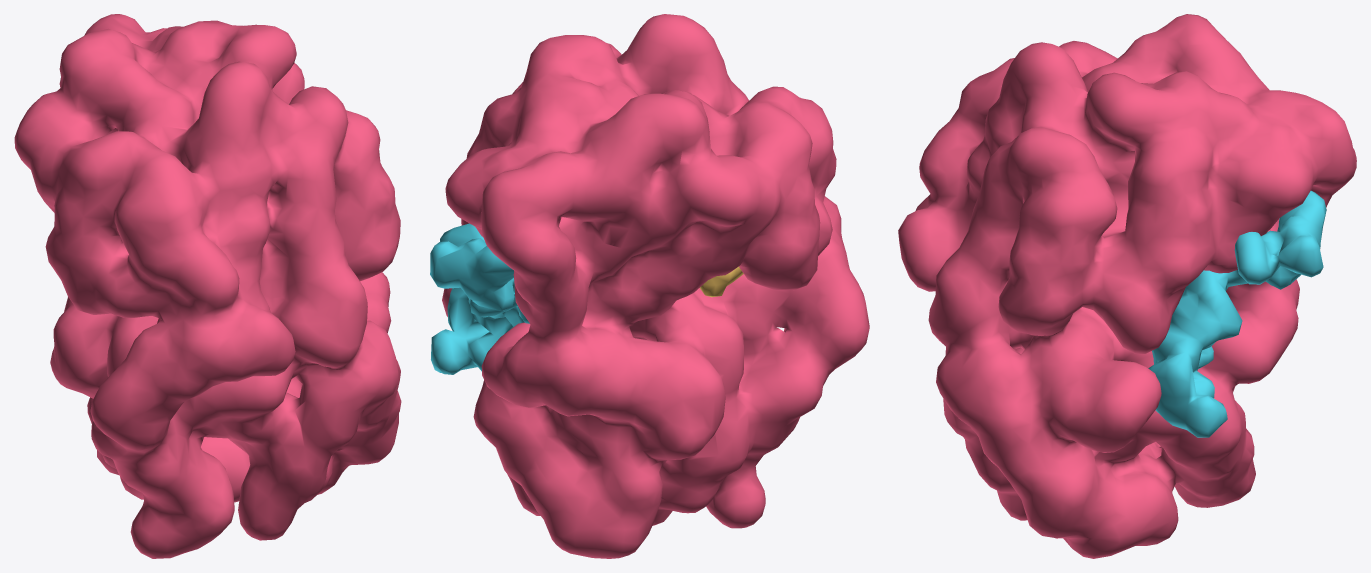
The model's file is ddx19_specimen.glb.
The picture shows the model from 3 angles, left to right: view 1: azimuth 30°, elevation 25°; view 2: azimuth 150°, elevation 25°; view 3: azimuth 270°, elevation 25°; orthographic projection. The views are drawn at different scales.
Parts seen in each view (by area): view 1: GEO-DDX19B; view 2: GEO-DDX19B, GEO-RNA, GEO-ANP; view 3: GEO-DDX19B, GEO-RNA.
Part boxes in pixels (x1,y1,x2,y2): GEO-DDX19B: (14, 14, 401, 558); GEO-DDX19B: (442, 14, 869, 558); GEO-RNA: (430, 223, 529, 374); GEO-ANP: (700, 266, 743, 297); GEO-DDX19B: (898, 14, 1356, 558); GEO-RNA: (1148, 190, 1326, 437).
Bounding box in the file's own units: 1.36 × 1.76 × 1.55.
